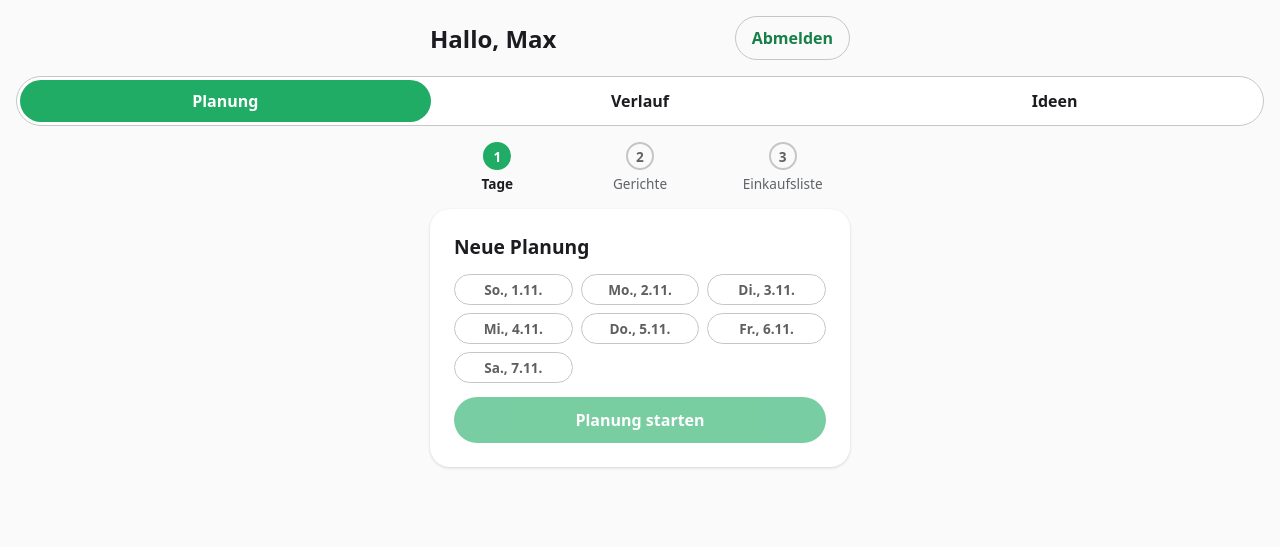
Test case: the ideas tab › brings an archived idea back to the list
Click the button "Ideen".
click(1055, 101)  # box [849,80,1260,122]
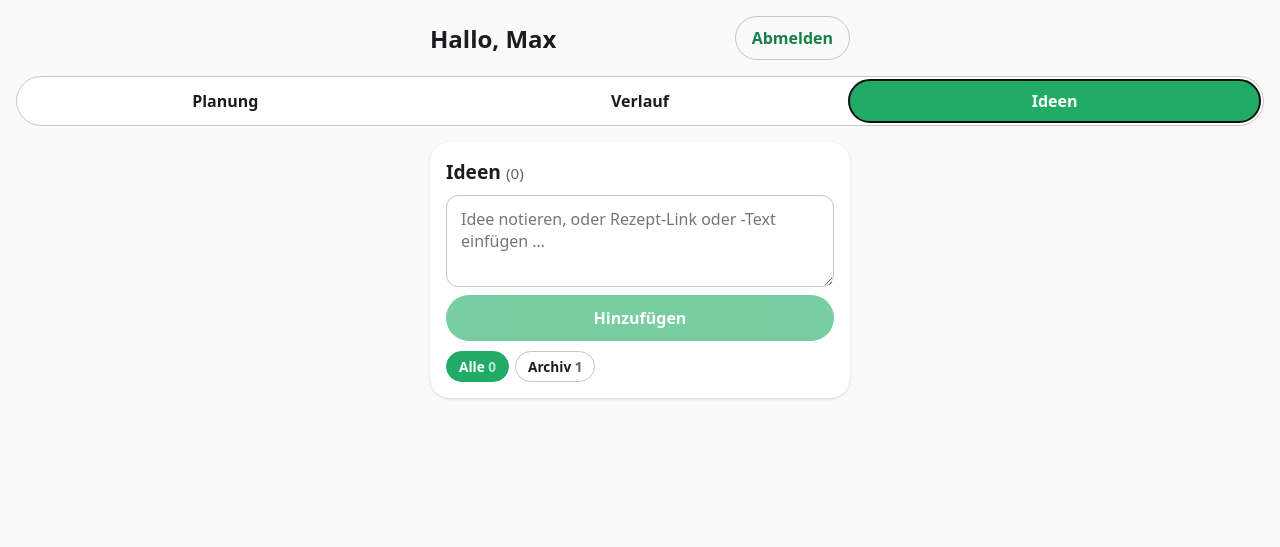
Click the button "Archiv 1".
click(555, 366)  # box [515,351,595,382]
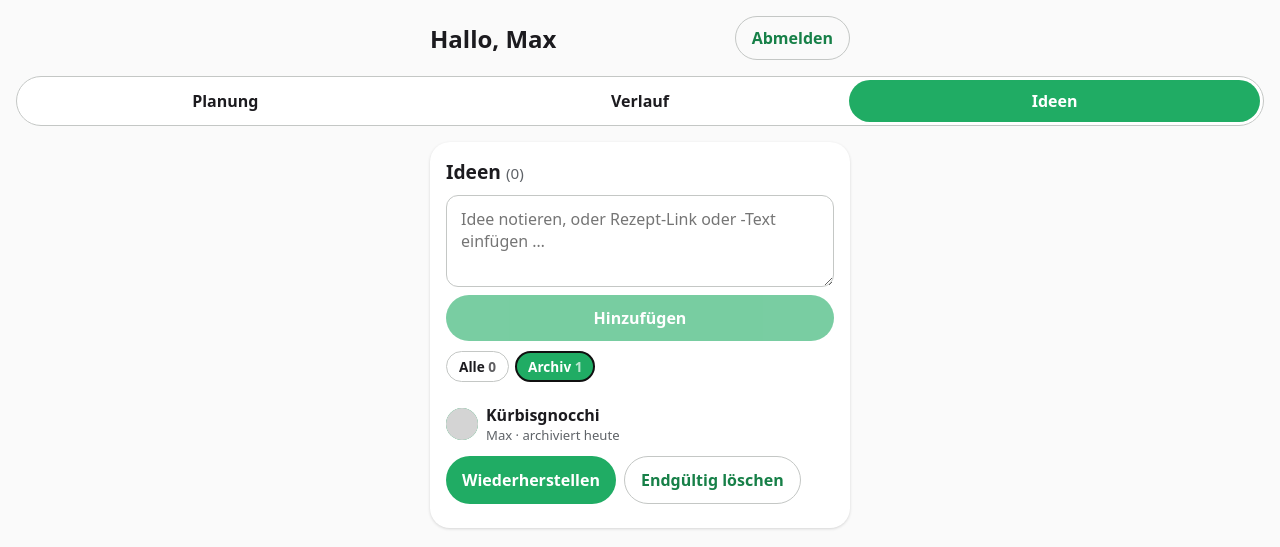
Click the button with aria-label "Kürbisgnocchi wiederherstellen".
click(531, 480)  # box [446,456,616,504]
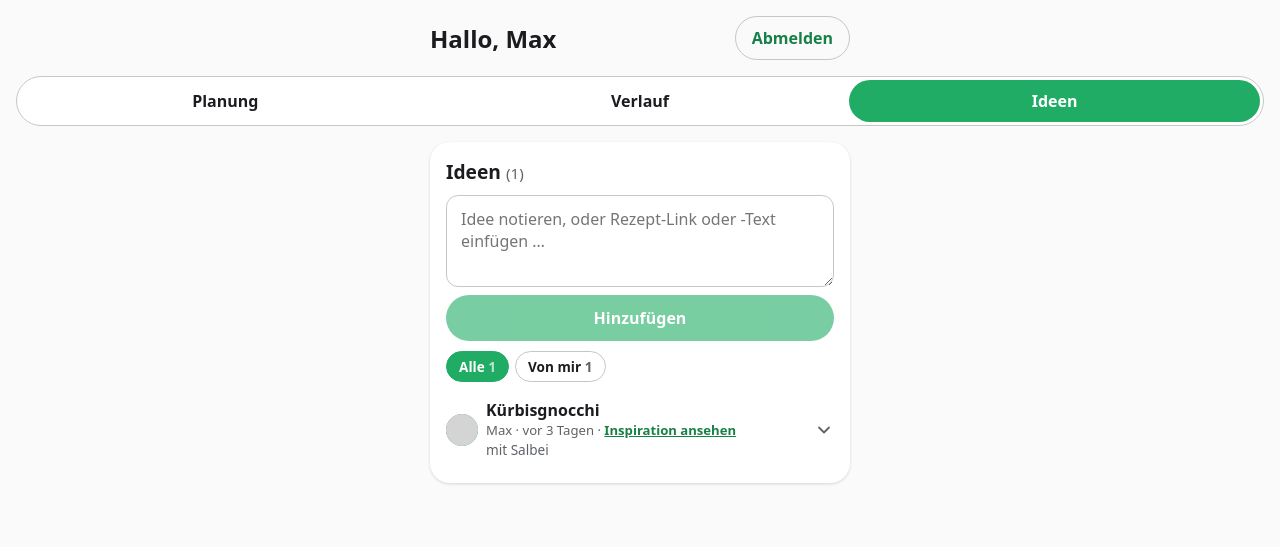
Expected: the button "Kürbisgnocchi" is shown, [486,400,600,420]
Expected: the button "Archiv 1" is gone
